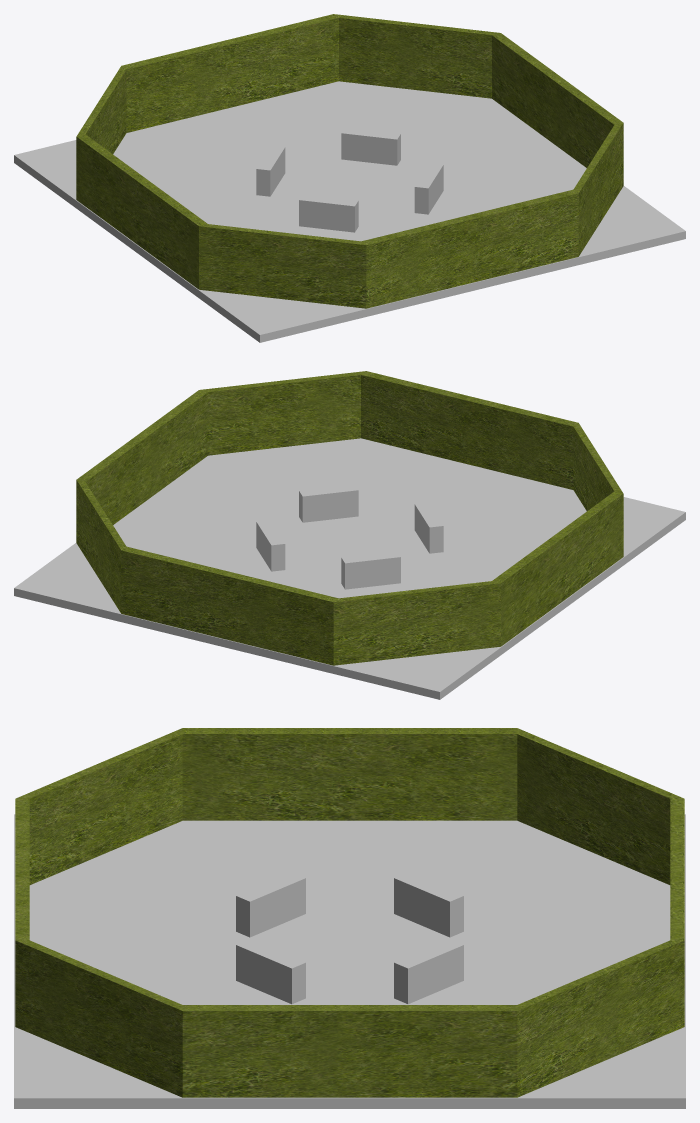
The model's file is stadium04.fbx.
3 renders of one model, top to bottom at view 1: azimuth 30°, elevation 25°; view 2: azimuth 150°, elevation 25°; view 3: azimuth 270°, elevation 25°, orthographic. The views are drawn at different scales.
Visible parts, largest first — view 1: wall, ground, Box006, Box007, Box005, Box008; view 2: wall, ground, Box005, Box008, Box006, Box007; view 3: wall, ground, Box006, Box008, Box005, Box007.
Part boxes in pixels (bbox=[...]): wall: bbox=[76, 14, 623, 308]; ground: bbox=[14, 81, 685, 342]; Box006: bbox=[341, 127, 400, 165]; Box007: bbox=[299, 194, 358, 232]; Box005: bbox=[256, 145, 285, 196]; Box008: bbox=[414, 163, 443, 214]; wall: bbox=[76, 371, 623, 665]; ground: bbox=[14, 438, 685, 699]; Box005: bbox=[341, 551, 400, 589]; Box008: bbox=[299, 484, 358, 522]; Box006: bbox=[256, 520, 285, 571]; Box007: bbox=[414, 502, 443, 553]; wall: bbox=[15, 728, 684, 1097]; ground: bbox=[14, 814, 685, 1108]; Box006: bbox=[394, 939, 463, 1004]; Box008: bbox=[236, 939, 305, 1004]; Box005: bbox=[394, 872, 463, 937]; Box007: bbox=[236, 872, 305, 937].
Bounding box in the file's own units: 1700 × 272 × 1700.
